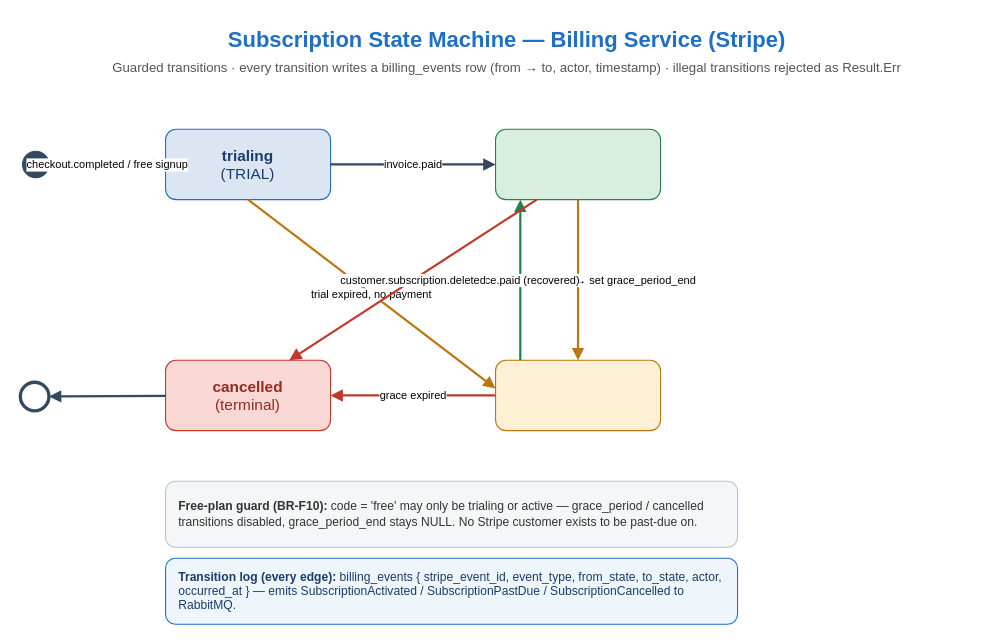
Image size: 999x644. Some labels were removed from this diagram. Each missing label, with the box of its shape:
active (ACTIVE): (494, 128, 661, 200)
grace_period (PAST_DUE): (494, 359, 661, 431)
